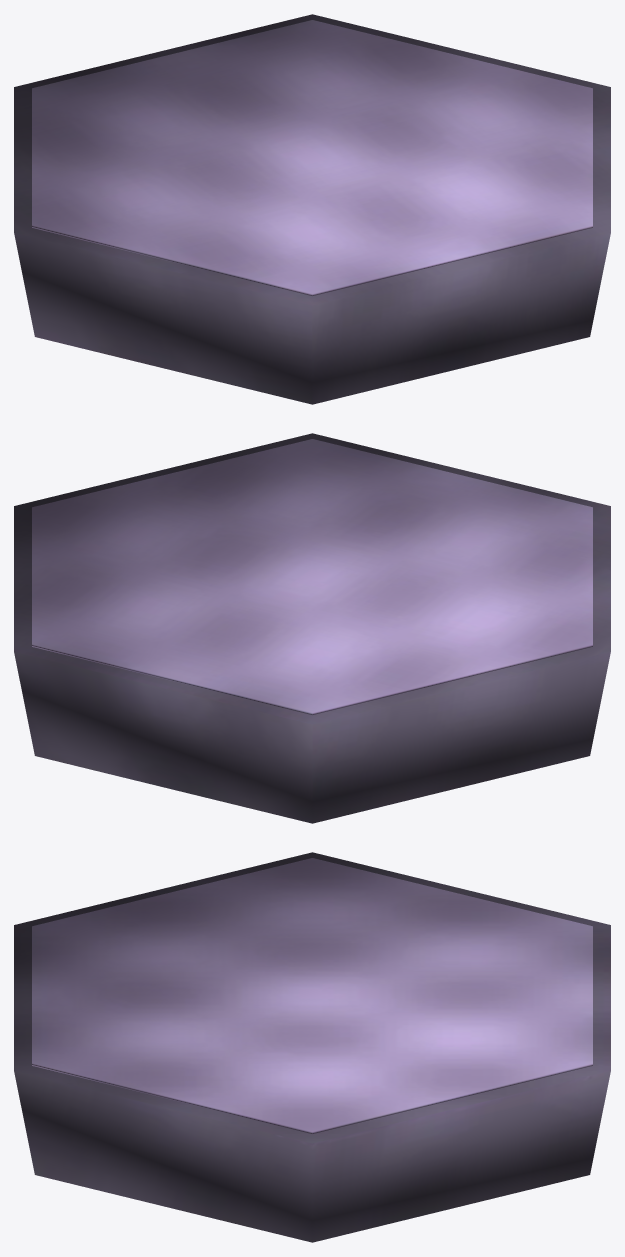
File: hex_stone.glb
The picture shows the model from 3 angles, top to bottom: view 1: azimuth 30°, elevation 25°; view 2: azimuth 150°, elevation 25°; view 3: azimuth 270°, elevation 25°; orthographic projection.
Parts seen in each view (by area): view 1: stone_top, stone_base; view 2: stone_top, stone_base; view 3: stone_top, stone_base.
Boxes of the visible parts, left/top/right/bottom form: stone_top: left=32, top=20, right=592, bottom=296; stone_base: left=14, top=14, right=610, bottom=404; stone_top: left=32, top=439, right=592, bottom=715; stone_base: left=14, top=433, right=610, bottom=823; stone_top: left=32, top=858, right=592, bottom=1133; stone_base: left=14, top=852, right=610, bottom=1242.
Size of the model in its own units: 2 by 0.3599 by 1.73.
Materials: 2 (2 with a texture image).
